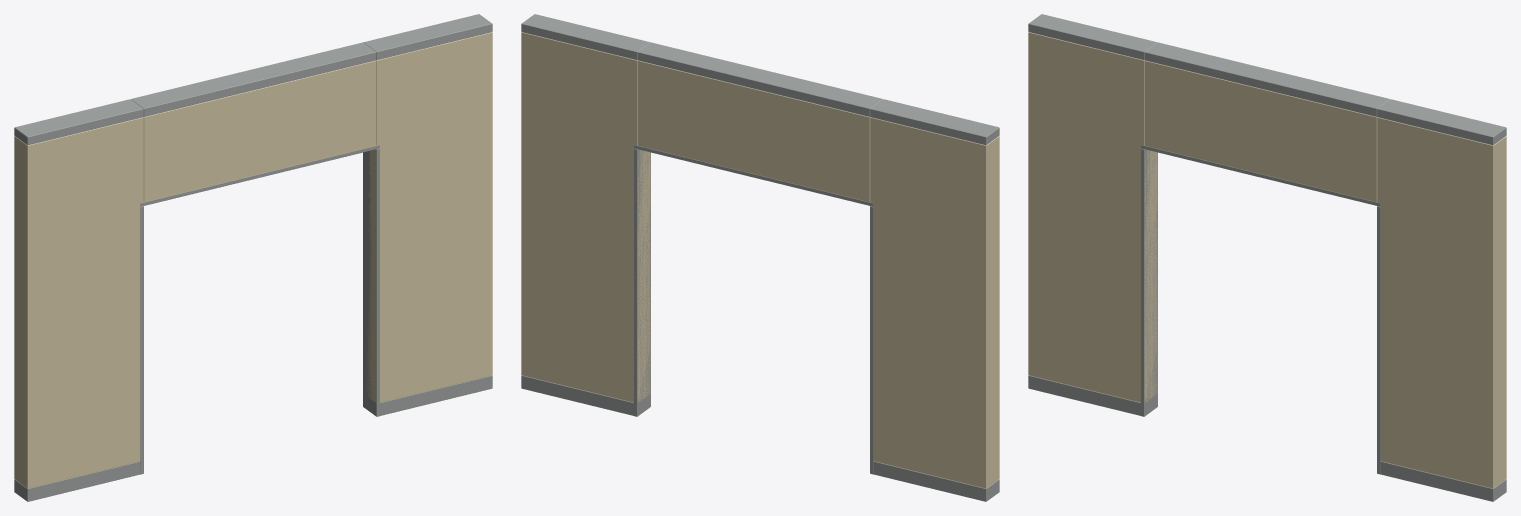
File: b21_wall_double_door_opening_4m.glb
3 renders of one model, left to right at view 1: azimuth 30°, elevation 25°; view 2: azimuth 150°, elevation 25°; view 3: azimuth 330°, elevation 25°, orthographic.
Visible parts, largest first — view 1: b21_wall_double_door_opening_4m; view 2: b21_wall_double_door_opening_4m; view 3: b21_wall_double_door_opening_4m.
Boxes of the visible parts, left/top/right/bottom form: b21_wall_double_door_opening_4m: left=14, top=14, right=492, bottom=501; b21_wall_double_door_opening_4m: left=521, top=14, right=999, bottom=501; b21_wall_double_door_opening_4m: left=1028, top=14, right=1506, bottom=501.
Size of the model in its own units: 4 by 3 by 0.204.
